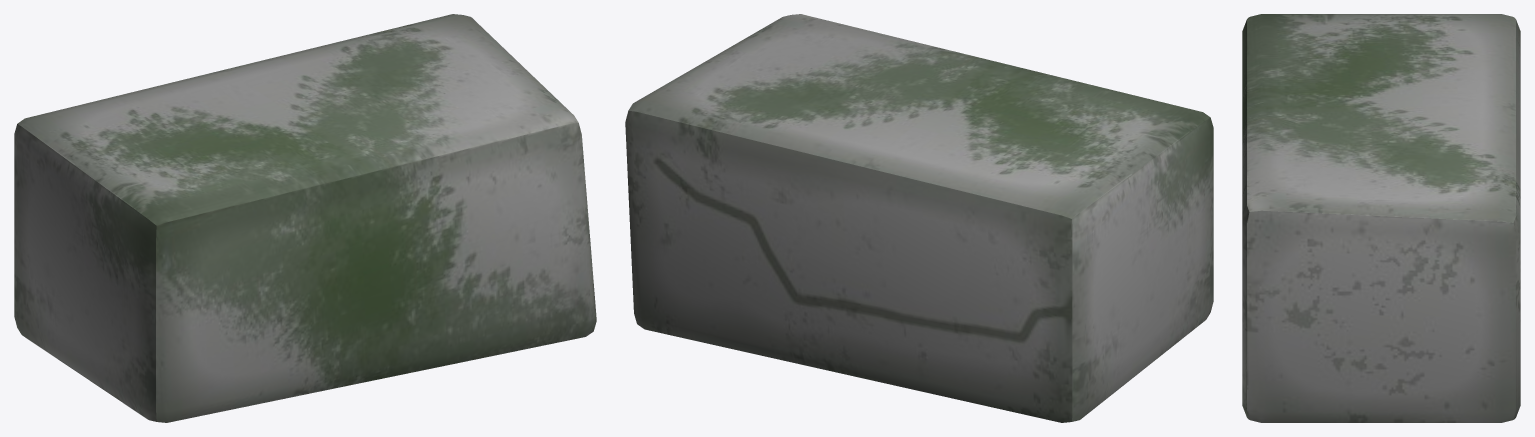
File: RuinsBrick3.fbx
The picture shows the model from 3 angles, left to right: view 1: azimuth 30°, elevation 25°; view 2: azimuth 150°, elevation 25°; view 3: azimuth 270°, elevation 25°; orthographic projection. The views are drawn at different scales.
Visible parts, largest first — view 1: Ruins_brick3; view 2: Ruins_brick3; view 3: Ruins_brick3.
Boxes of the visible parts, box(x1,y1,x2,y2) form: Ruins_brick3: box(14, 14, 596, 422); Ruins_brick3: box(625, 14, 1213, 422); Ruins_brick3: box(1242, 14, 1520, 422).
Bounding box in the file's own units: 25.94 × 12.26 × 14.47.
1 material, 1 textured.
